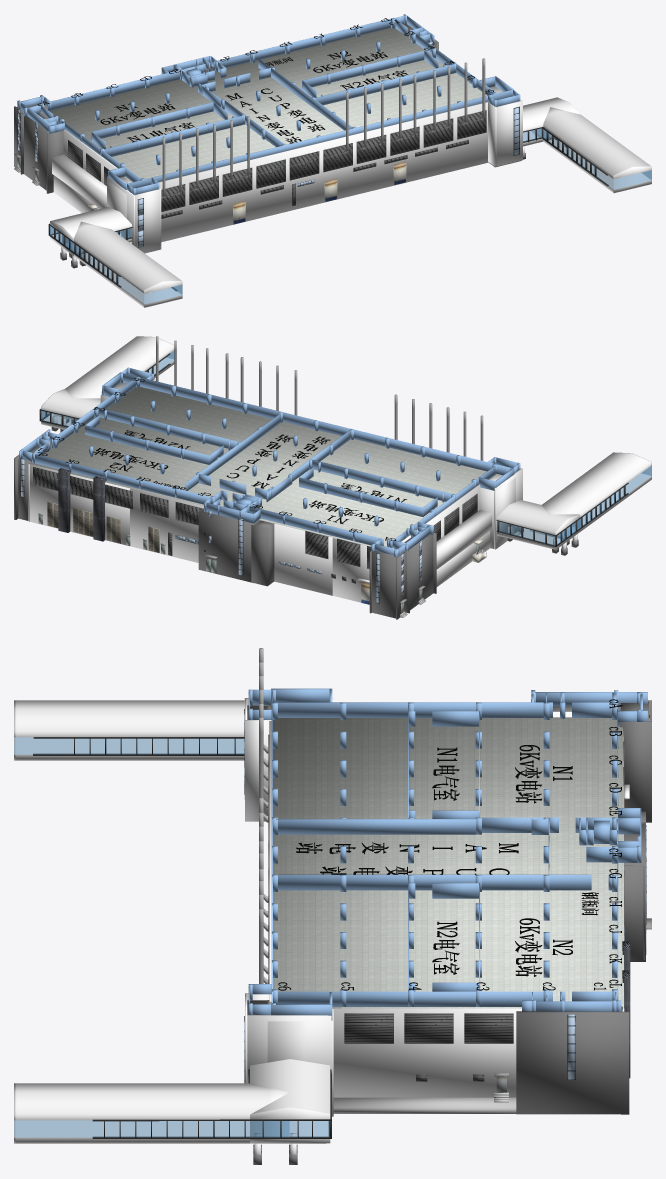
The model's file is cup_5f_mini.gltf.
The picture shows the model from 3 angles, top to bottom: view 1: azimuth 30°, elevation 25°; view 2: azimuth 150°, elevation 25°; view 3: azimuth 270°, elevation 25°; orthographic projection. The views are drawn at different scales.
Visible parts, largest first — view 1: cup_dimian_4f, cup_waiguan_4_4, cup_waiguan_4_57, cup_waiguan_4_148, cup_qiang_4f_36, cup_waiguan_4_39, cup_qiang_4f_6, cup_waiguan_4_13, cup_waiguan_4_112, cup_waiguan_4_183, cup_waiguan_4_114, cup_waiguan_4_130 (+25 smaller); view 2: cup_dimian_4f, cup_waiguan_4_188, cup_waiguan_4_57, cup_qiang_4f_36, cup_waiguan_4_148, cup_waiguan_4_39, cup_waiguan_4_122, cup_waiguan_4_187, cup_qiang_4f_6, cup_waiguan_4_13, cup_waiguan_4_290, cup_waiguan_4_130 (+29 smaller); view 3: cup_dimian_4f, cup_waiguan_4_148, cup_waiguan_4_57, cup_waiguan_4_27, cup_waiguan_4_26, cup_waiguan_4_130, cup_qiang_4f_142, cup_qiang_4f_46, cup_qiang_4f_22, cup_qiang_4f_161, cup_waiguan_4_105, cup_waiguan_4_32 (+18 smaller).
Boxes of the visible parts, x1,y1,x2,y2 form: cup_dimian_4f: (49,28,486,182); cup_waiguan_4_4: (151,102,488,242); cup_waiguan_4_57: (62,221,182,307); cup_waiguan_4_148: (531,107,651,193); cup_qiang_4f_36: (129,90,511,188); cup_waiguan_4_39: (50,207,131,255); cup_qiang_4f_6: (213,18,390,70); cup_waiguan_4_13: (52,154,106,208); cup_waiguan_4_112: (495,100,522,166); cup_waiguan_4_183: (24,114,48,190); cup_waiguan_4_114: (134,189,160,253); cup_waiguan_4_130: (523,97,580,146); cup_dimian_4f: (28,387,498,546); cup_waiguan_4_188: (130,488,332,595); cup_waiguan_4_57: (529,452,651,539); cup_qiang_4f_36: (123,373,510,475); cup_waiguan_4_148: (53,336,174,420); cup_waiguan_4_39: (497,500,580,549); cup_waiguan_4_122: (198,512,251,581); cup_waiguan_4_187: (28,463,129,546); cup_qiang_4f_6: (35,454,215,504); cup_waiguan_4_13: (436,510,491,569); cup_waiguan_4_290: (251,520,274,586); cup_waiguan_4_130: (41,389,100,429); cup_dimian_4f: (269,717,623,1008); cup_waiguan_4_148: (14,1083,289,1143); cup_waiguan_4_57: (14,700,244,760); cup_waiguan_4_27: (332,1007,624,1097); cup_waiguan_4_26: (516,1011,629,1114); cup_waiguan_4_130: (250,1059,330,1143); cup_qiang_4f_142: (278,874,591,890); cup_qiang_4f_46: (278,702,552,717); cup_qiang_4f_22: (278,991,552,1006); cup_qiang_4f_161: (276,819,476,834); cup_waiguan_4_105: (333,1097,516,1113); cup_waiguan_4_32: (247,1015,331,1083).
Bounding box in the file's own units: 276 × 55.54 × 179.
Materials: 25 (11 with a texture image).
